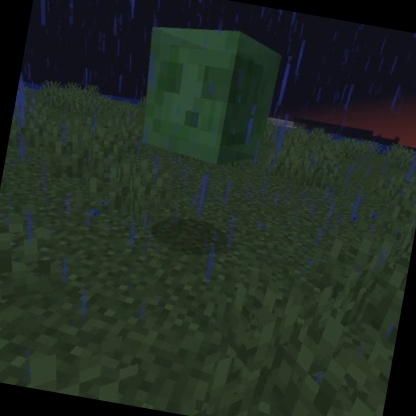slime: (123, 11, 290, 179)
